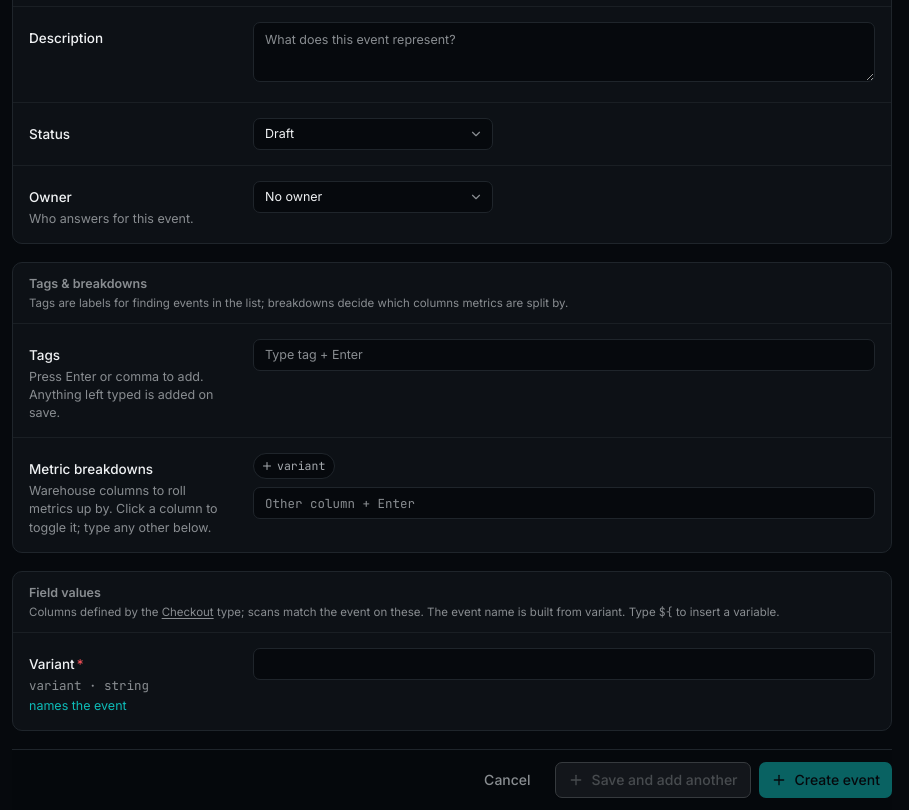
Test: EventForm scan-rule generated names › locks the name input and previews the template-generated name
The image size is (909, 810).
(page scrolled)
In the dropdown labelled "Variant": x=564, y=664 [253, 648, 875, 680], type "b2"
(page scrolled)
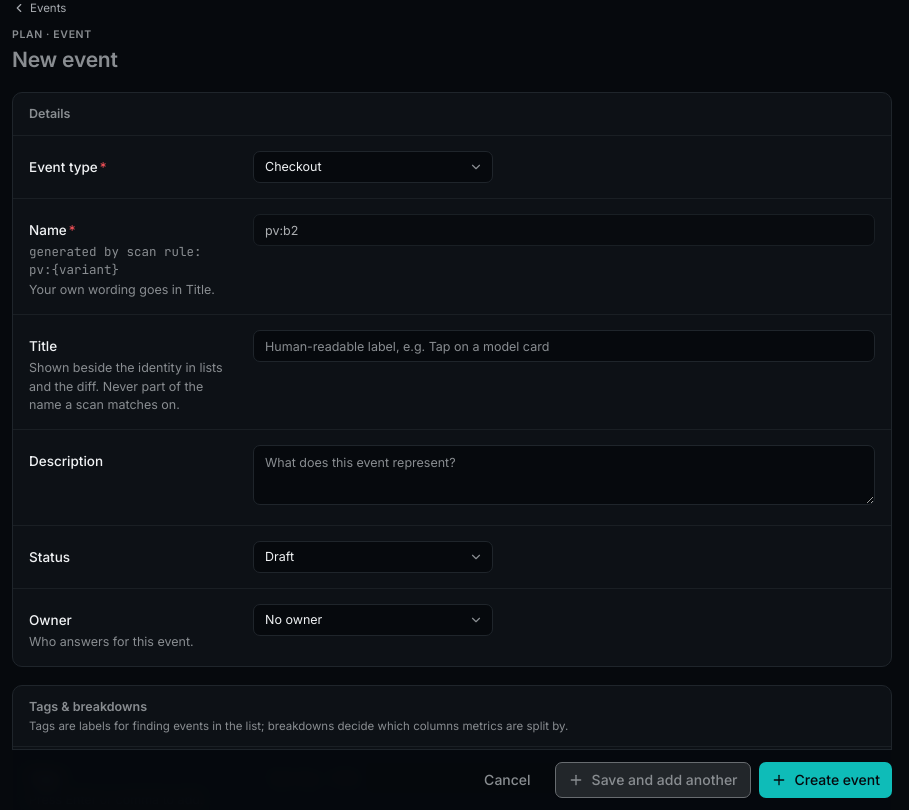
Check: the field labelled "Name" holds "pv:b2", box [253, 214, 875, 246]
